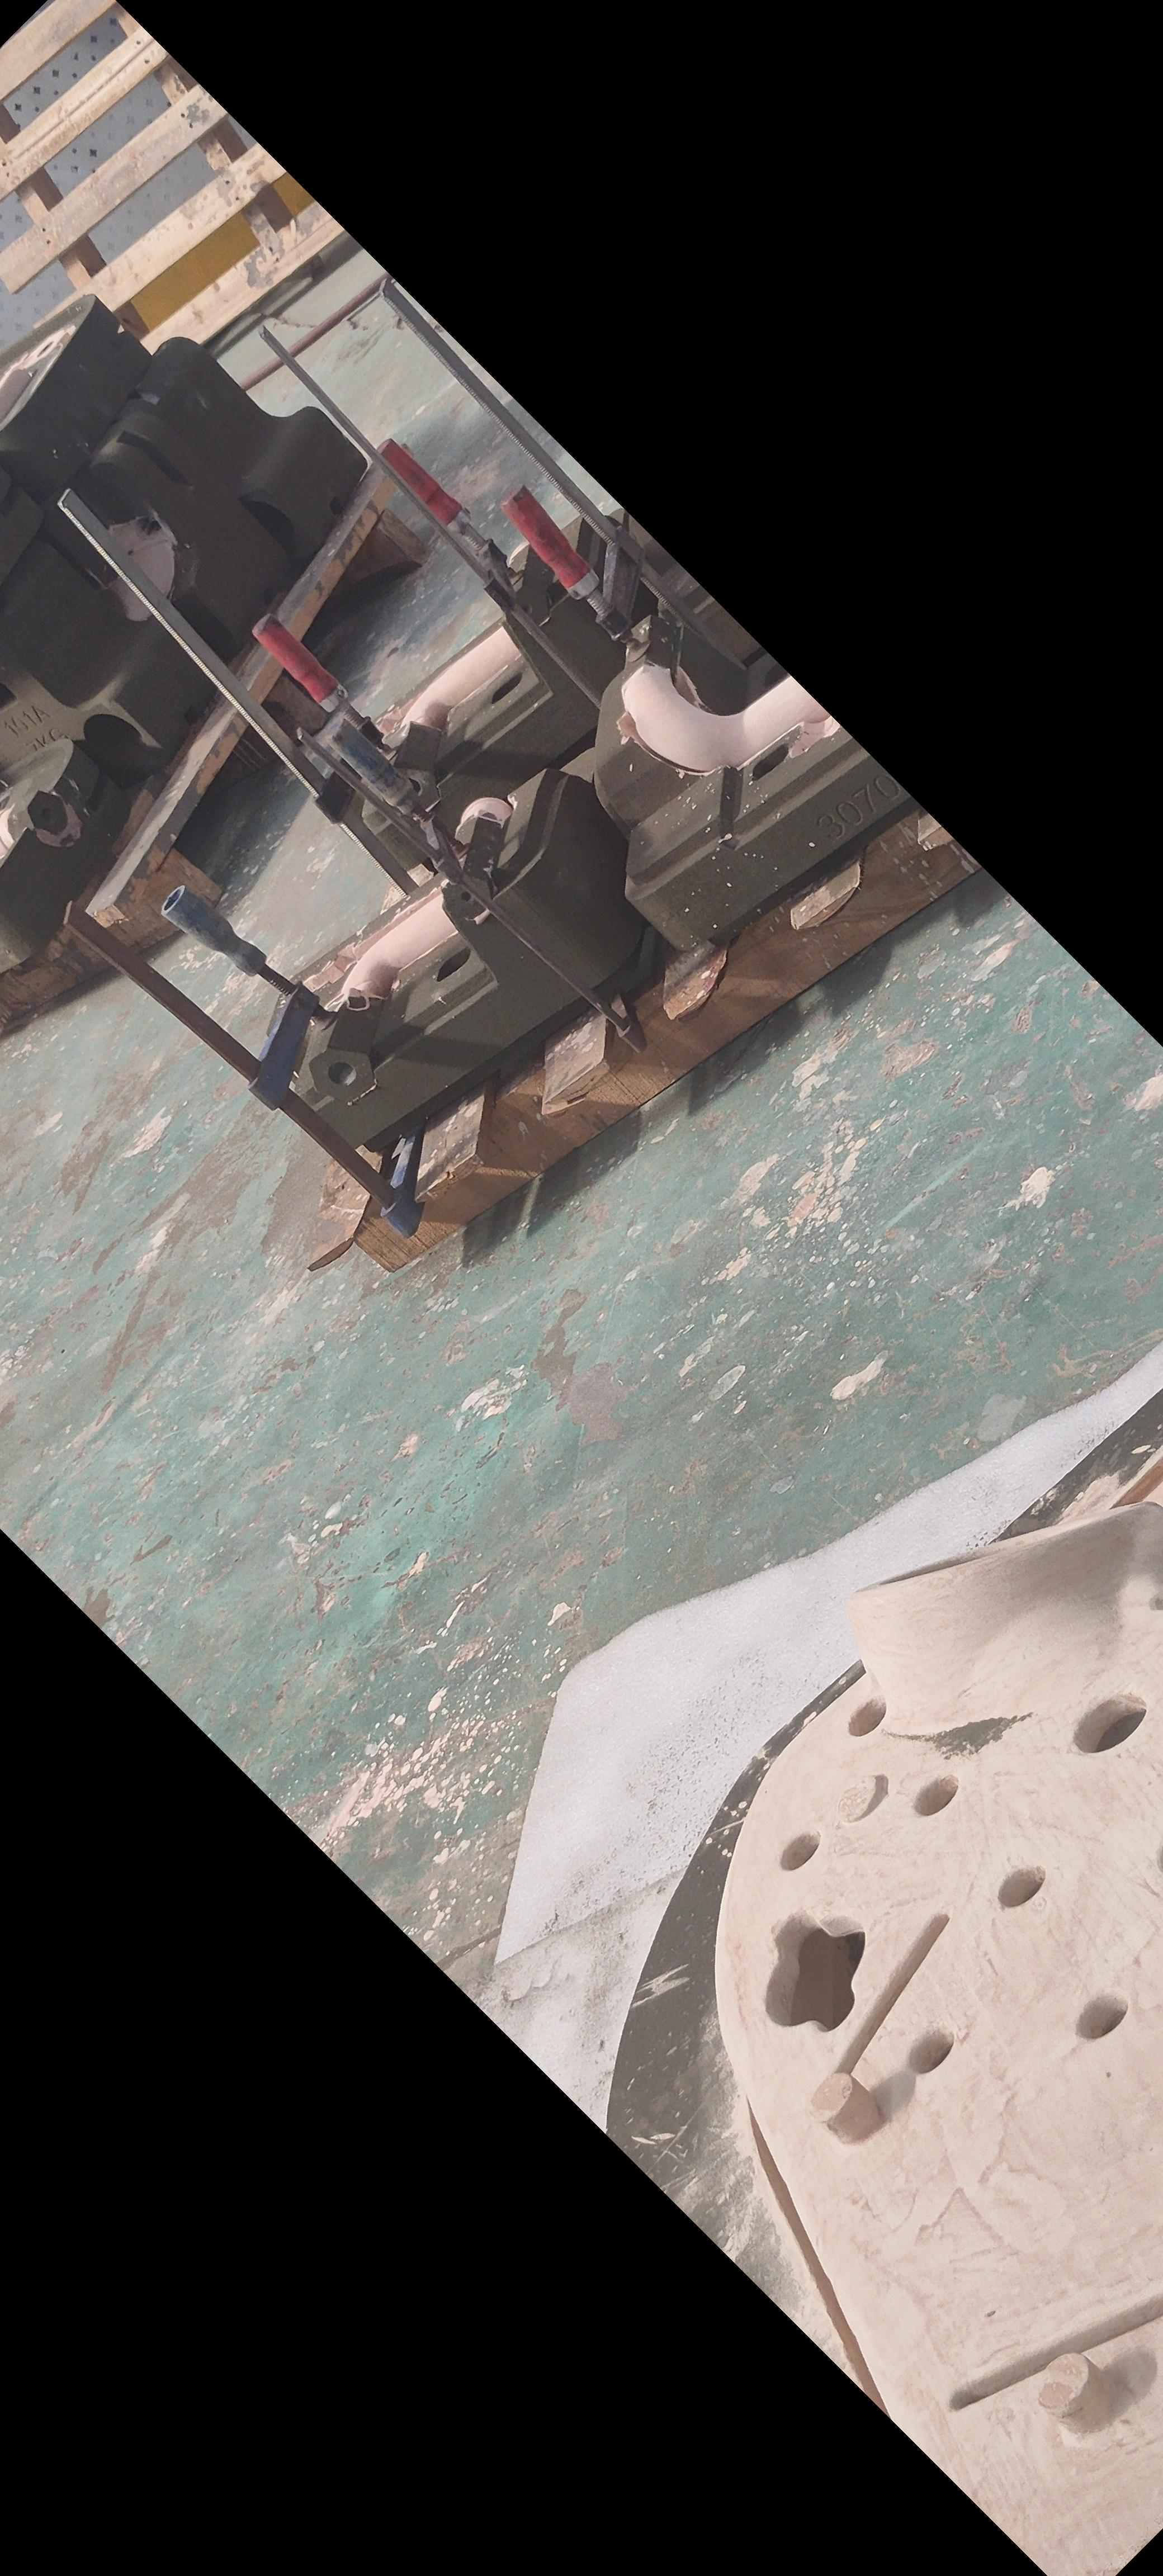pouring hole: (232, 499, 297, 554), (82, 713, 145, 752)
